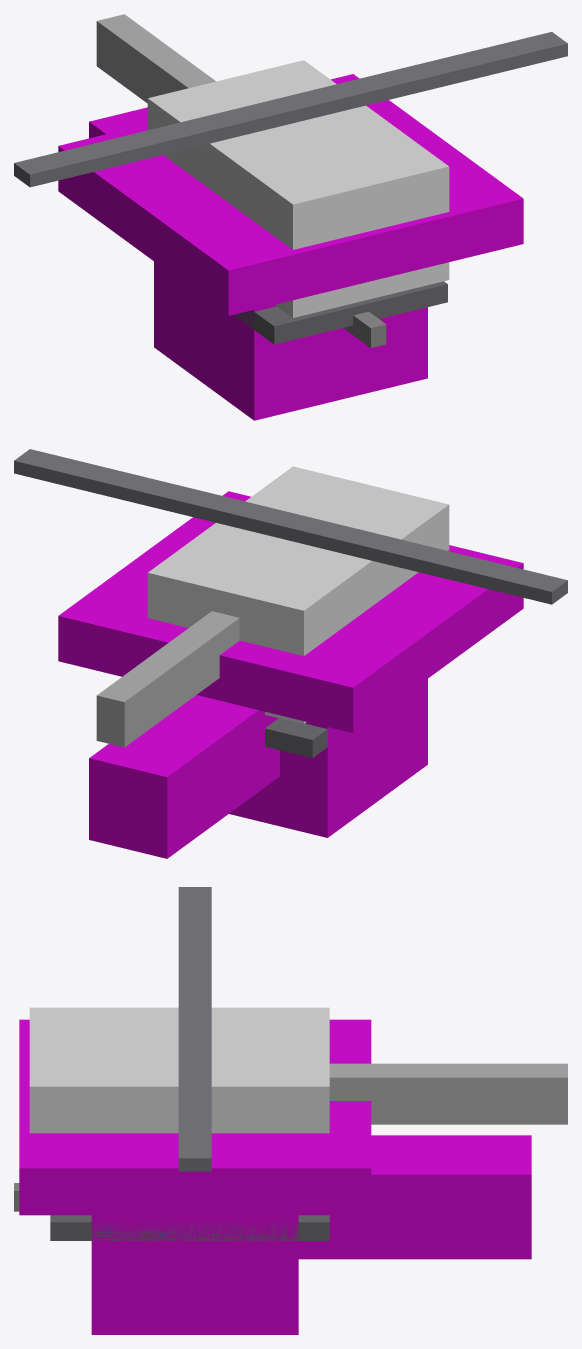
The model's file is heli.glb.
3 views of the same model, one above another, from view 1: azimuth 30°, elevation 25°; view 2: azimuth 150°, elevation 25°; view 3: azimuth 270°, elevation 25° (orthographic). The views are drawn at different scales.
Visible parts, largest first — view 1: collide.rotor, body, collide.body, rotor, tail, skid, collide.tail, gun; view 2: collide.rotor, body, collide.tail, rotor, collide.body, tail, skid; view 3: body, collide.rotor, collide.body, collide.tail, tail, rotor, skid.
Part boxes in pixels (x1,y1,x2,y2): collide.rotor: (58, 74, 523, 315); body: (147, 60, 449, 317); collide.body: (154, 261, 427, 420); rotor: (14, 32, 567, 187); tail: (96, 14, 215, 103); skid: (234, 281, 447, 344); collide.tail: (89, 107, 147, 138); gun: (343, 311, 386, 347); collide.rotor: (58, 491, 523, 732); body: (147, 466, 449, 724); collide.tail: (89, 695, 279, 858); rotor: (14, 449, 567, 604); collide.body: (229, 679, 427, 837); tail: (96, 611, 239, 747); skid: (265, 718, 327, 757); body: (29, 1007, 329, 1133); collide.rotor: (19, 1019, 371, 1215); collide.body: (91, 1215, 298, 1334); collide.tail: (298, 1135, 531, 1259); tail: (329, 1063, 567, 1124); rotor: (178, 887, 211, 1171); skid: (50, 1215, 329, 1240).
Bounding box in the file's own units: 6.2 × 2.86 × 5.35.
